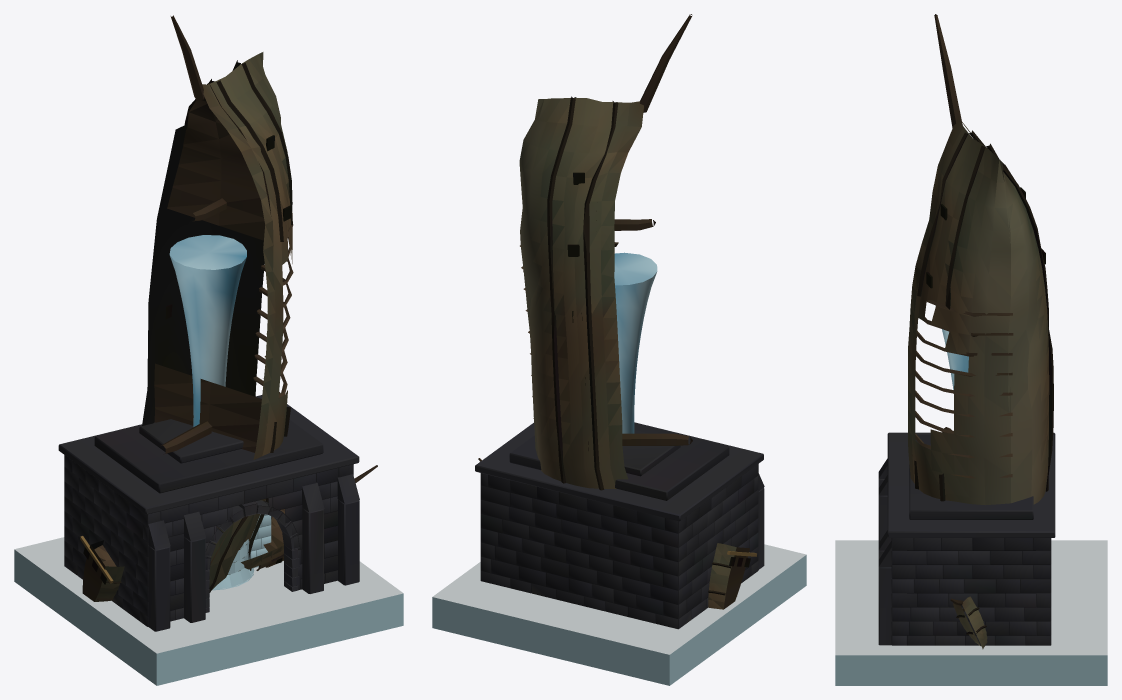
The model's file is props_far.glb.
The picture shows the model from 3 angles, left to right: view 1: azimuth 30°, elevation 25°; view 2: azimuth 150°, elevation 25°; view 3: azimuth 270°, elevation 25°; orthographic projection. The views are drawn at different scales.
Parts seen in each view (by area): view 1: forge_hall, wreck_stand, ice_ceiling, ice_pillar, wreck_hull, wreck_bow, ice_tower, ice_gate; view 2: forge_hall, wreck_stand, ice_ceiling, ice_pillar, wreck_hull; view 3: wreck_stand, forge_hall, ice_ceiling, wreck_bow, ice_pillar.
Boxes of the visible parts, x1,y1,x2,y2 form: forge_hall: (58,395,359,631); wreck_stand: (142,15,293,592); ice_ceiling: (14,537,403,685); ice_pillar: (169,235,246,426); wreck_hull: (80,527,280,601); wreck_bow: (238,465,377,571); ice_tower: (212,539,254,590); ice_gate: (248,514,271,567); forge_hall: (475,422,764,629); wreck_stand: (519,14,692,490); ice_ceiling: (432,544,806,685); ice_pillar: (614,252,657,433); wreck_hull: (708,543,756,609); wreck_stand: (908,14,1053,505); forge_hall: (878,432,1055,645); ice_ceiling: (835,540,1107,685); wreck_bow: (950,596,987,649); ice_pillar: (935,305,968,389).
Bounding box in the file's own units: 54.66 × 116 × 48.
